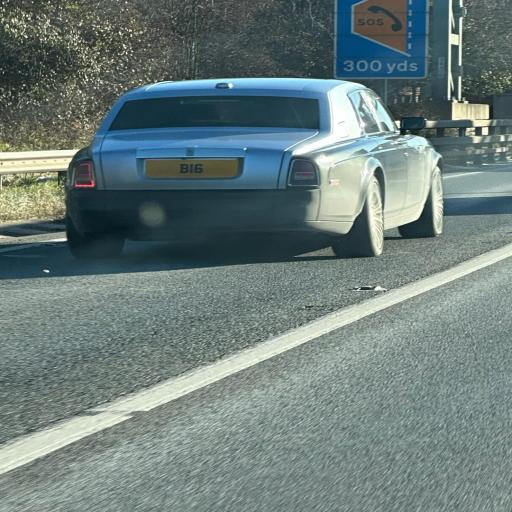numberplates: (145, 158, 239, 178)
